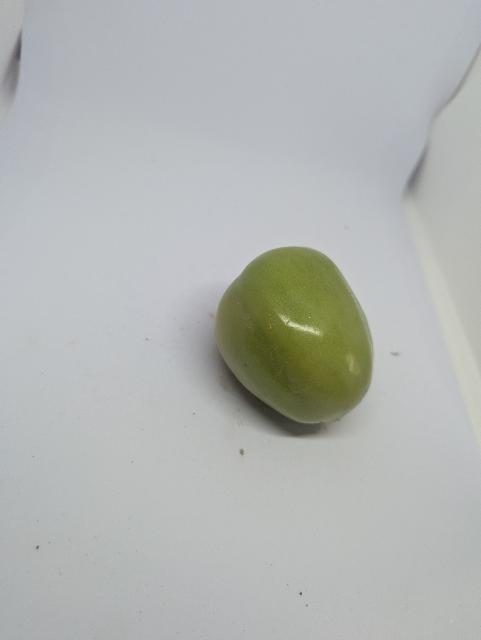green: (215, 244, 379, 427)
